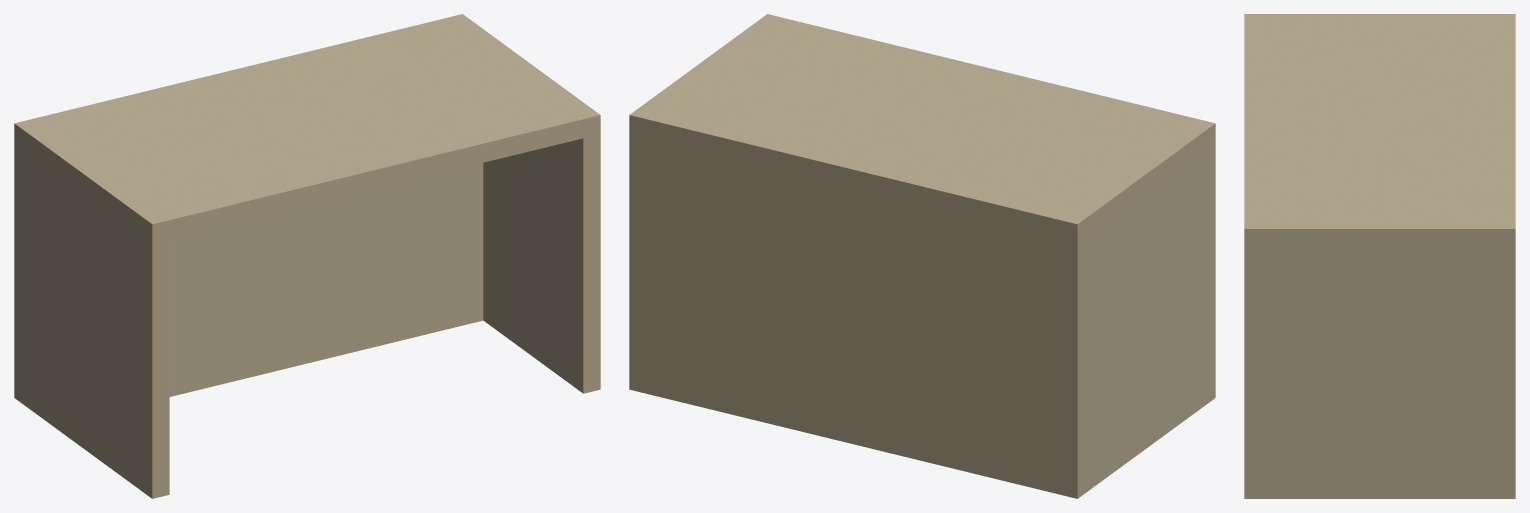
File: Quarters_Desk.fbx
3 renders of one model, left to right at view 1: azimuth 30°, elevation 25°; view 2: azimuth 150°, elevation 25°; view 3: azimuth 270°, elevation 25°, orthographic.
Parts seen in each view (by area): view 1: Quarters_Desk; view 2: Quarters_Desk; view 3: Quarters_Desk.
Part boxes in pixels (x1,y1,x2,y2): Quarters_Desk: (14,14,600,498); Quarters_Desk: (629,14,1215,498); Quarters_Desk: (1244,14,1515,498).
Bounding box in the file's own units: 449 × 263 × 239.
